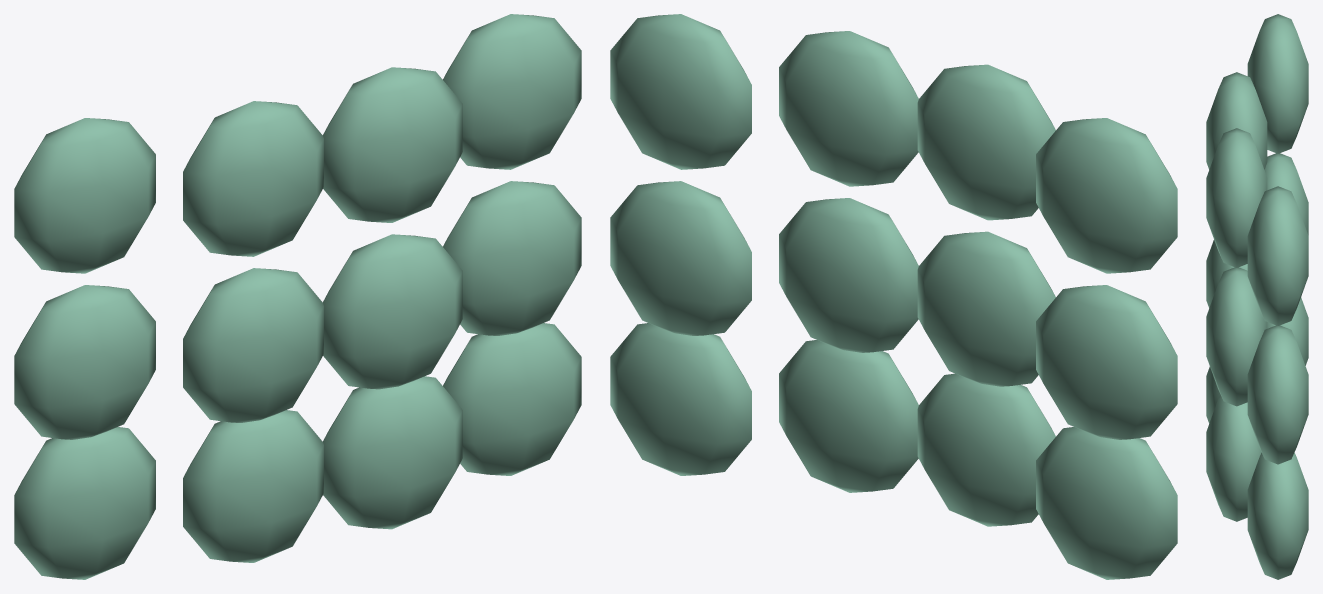
Rendered from scales-throat.glb.
3 views of the same model, side by side, from view 1: azimuth 30°, elevation 25°; view 2: azimuth 150°, elevation 25°; view 3: azimuth 270°, elevation 25° (orthographic). The views are drawn at different scales.
Visible parts, largest first — view 1: Scale_0, Scale_4, Scale_1, Scale_5, Scale_2, Scale_6, Scale_8, Scale_9, Scale_10, Scale_3, Scale_7, Scale_11; view 2: Scale_0, Scale_3, Scale_7, Scale_4, Scale_2, Scale_6, Scale_8, Scale_11, Scale_10, Scale_1, Scale_5, Scale_9; view 3: Scale_3, Scale_7, Scale_11, Scale_0, Scale_2, Scale_6, Scale_10, Scale_1, Scale_4, Scale_8, Scale_5, Scale_9.
Part boxes in pixels (<box>): Scale_0: <box>14,118,155,273</box>; Scale_4: <box>14,285,155,439</box>; Scale_1: <box>183,101,323,256</box>; Scale_5: <box>183,268,323,422</box>; Scale_2: <box>323,67,462,222</box>; Scale_6: <box>323,234,462,389</box>; Scale_8: <box>14,427,155,579</box>; Scale_9: <box>183,410,323,562</box>; Scale_10: <box>323,376,462,529</box>; Scale_3: <box>443,14,581,169</box>; Scale_7: <box>443,181,581,335</box>; Scale_11: <box>443,323,581,475</box>; Scale_0: <box>1036,118,1177,273</box>; Scale_3: <box>610,14,751,169</box>; Scale_7: <box>610,181,751,335</box>; Scale_4: <box>1036,285,1177,439</box>; Scale_2: <box>779,31,918,186</box>; Scale_6: <box>779,198,918,352</box>; Scale_8: <box>1036,427,1177,579</box>; Scale_11: <box>610,323,751,475</box>; Scale_10: <box>779,340,918,492</box>; Scale_1: <box>917,64,1055,220</box>; Scale_5: <box>917,231,1055,386</box>; Scale_9: <box>917,373,1055,526</box>; Scale_3: <box>1247,186,1308,325</box>; Scale_7: <box>1247,325,1308,464</box>; Scale_11: <box>1247,452,1308,579</box>; Scale_0: <box>1247,14,1308,153</box>; Scale_2: <box>1206,128,1267,267</box>; Scale_6: <box>1206,267,1267,406</box>; Scale_10: <box>1206,394,1261,521</box>; Scale_1: <box>1206,72,1267,169</box>; Scale_4: <box>1264,153,1308,235</box>; Scale_8: <box>1267,297,1308,365</box>; Scale_5: <box>1206,240,1247,307</box>; Scale_9: <box>1206,366,1220,423</box>.
Size of the model in its own units: 0.1066 by 0.083 by 0.0201.
